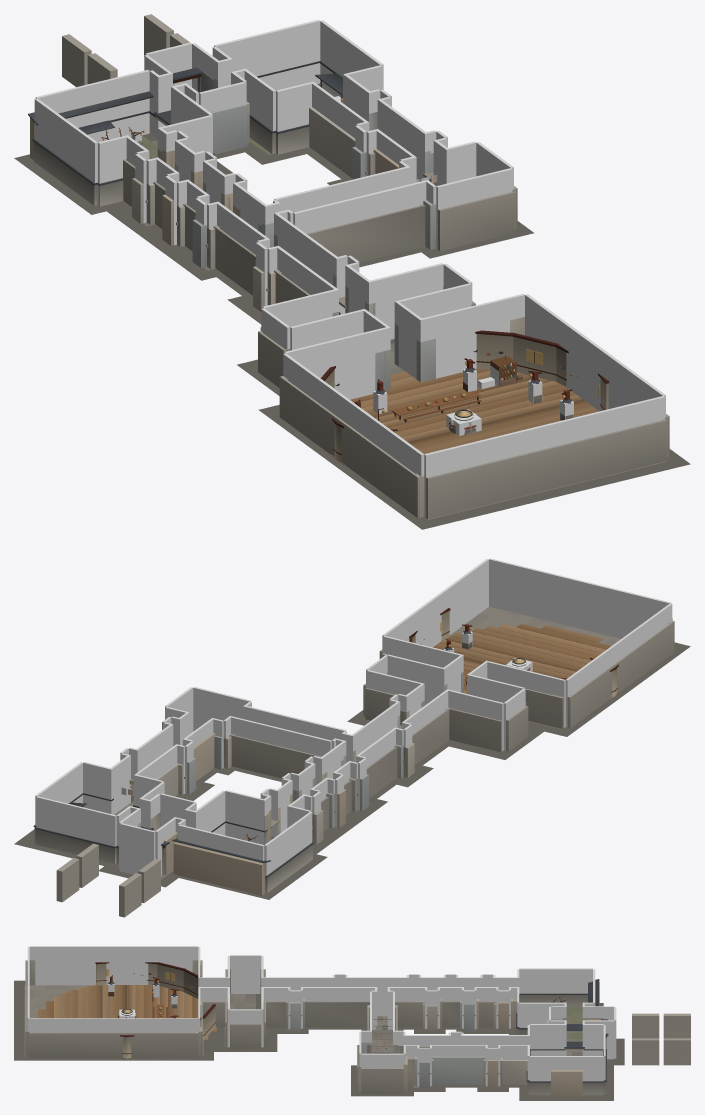
File: heart.glb
3 views of the same model, one above another, from view 1: azimuth 30°, elevation 25°; view 2: azimuth 150°, elevation 25°; view 3: azimuth 270°, elevation 25° (orthographic). The views are drawn at different scales.
Visible parts, largest first — view 1: COL_heart, heart, DOMAIN_kitchen, GROUND_heart, DOMAIN_table; view 2: COL_heart, heart, GROUND_heart, DOMAIN_kitchen; view 3: COL_heart, heart, GROUND_heart, DOMAIN_kitchen.
Boxes of the visible parts, x1,y1,x2,y2 form: COL_heart: [34, 19, 665, 517]; heart: [28, 14, 669, 519]; DOMAIN_kitchen: [320, 330, 609, 464]; GROUND_heart: [14, 83, 690, 529]; DOMAIN_table: [392, 390, 481, 422]; COL_heart: [35, 558, 672, 876]; heart: [33, 618, 674, 917]; GROUND_heart: [14, 606, 690, 899]; DOMAIN_kitchen: [409, 608, 619, 699]; COL_heart: [27, 946, 616, 1086]; heart: [25, 960, 690, 1096]; GROUND_heart: [14, 980, 624, 1100]; DOMAIN_kitchen: [37, 962, 216, 1058].
Bounding box in the file's own units: 54 × 8.71 × 129.
